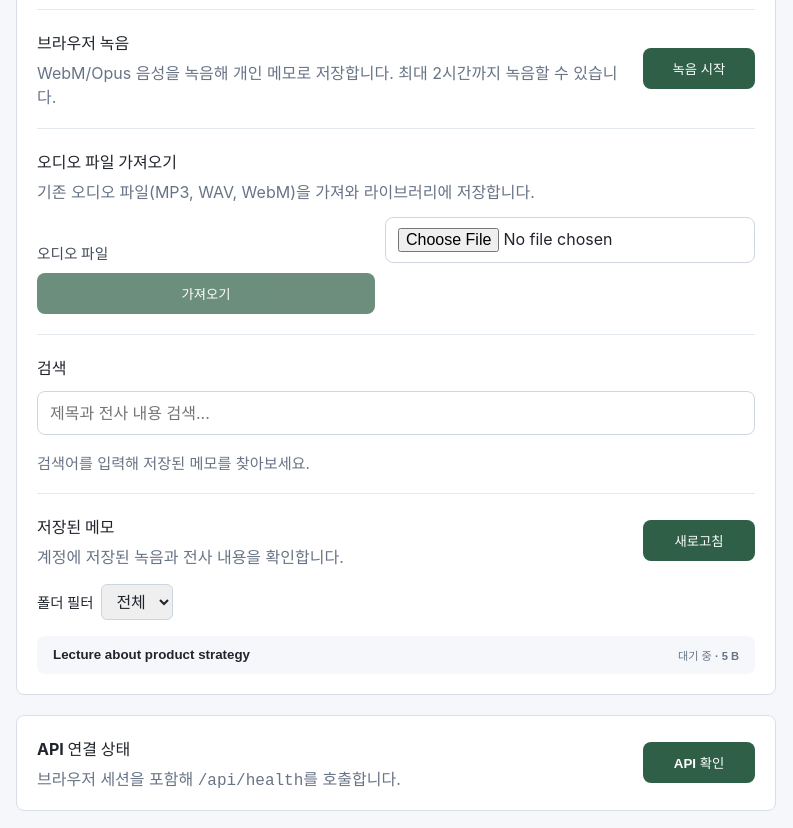
Test: App transcription polling › retries a failed transcription from the memo detail
(page scrolled)
Click the button "Lecture about product strategy 대기 중 · 5 B" at {"x": 152, "y": 655}, box [37,636,755,674]
(page scrolled)
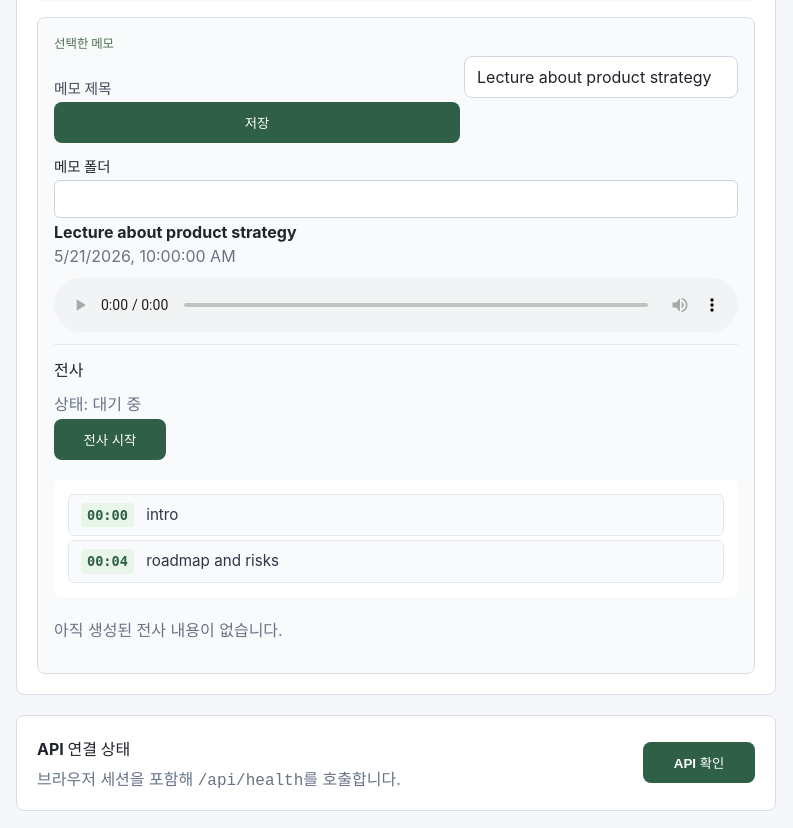
Click the button "전사 시작" at {"x": 110, "y": 439}, box [54,419,166,460]
(page scrolled)
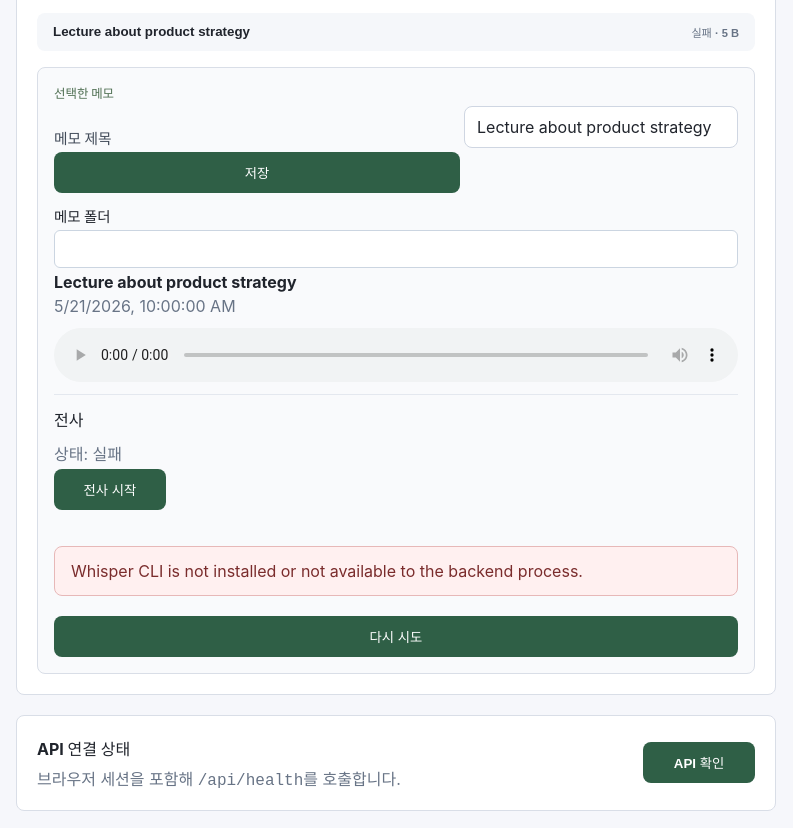
Now the text "Whisper CLI is not installed or not available to the backend process." is shown, box [54,546,738,596]
Click the button "다시 시도" at {"x": 396, "y": 636}, box [54,616,738,657]
(page scrolled)
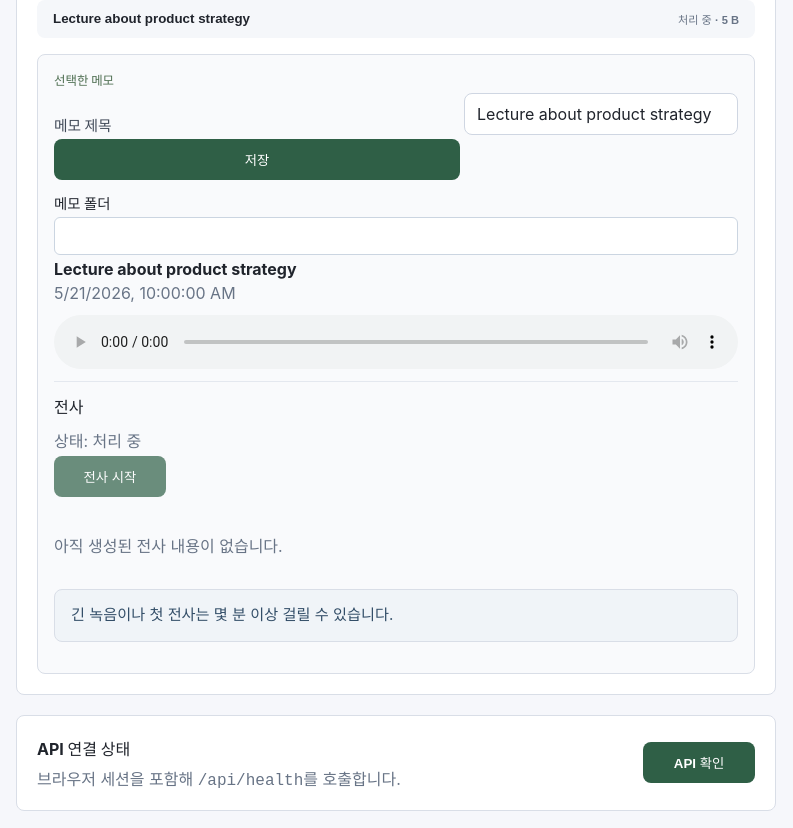
Now the text "Whisper CLI is not installed or not available to the backend process." is gone
